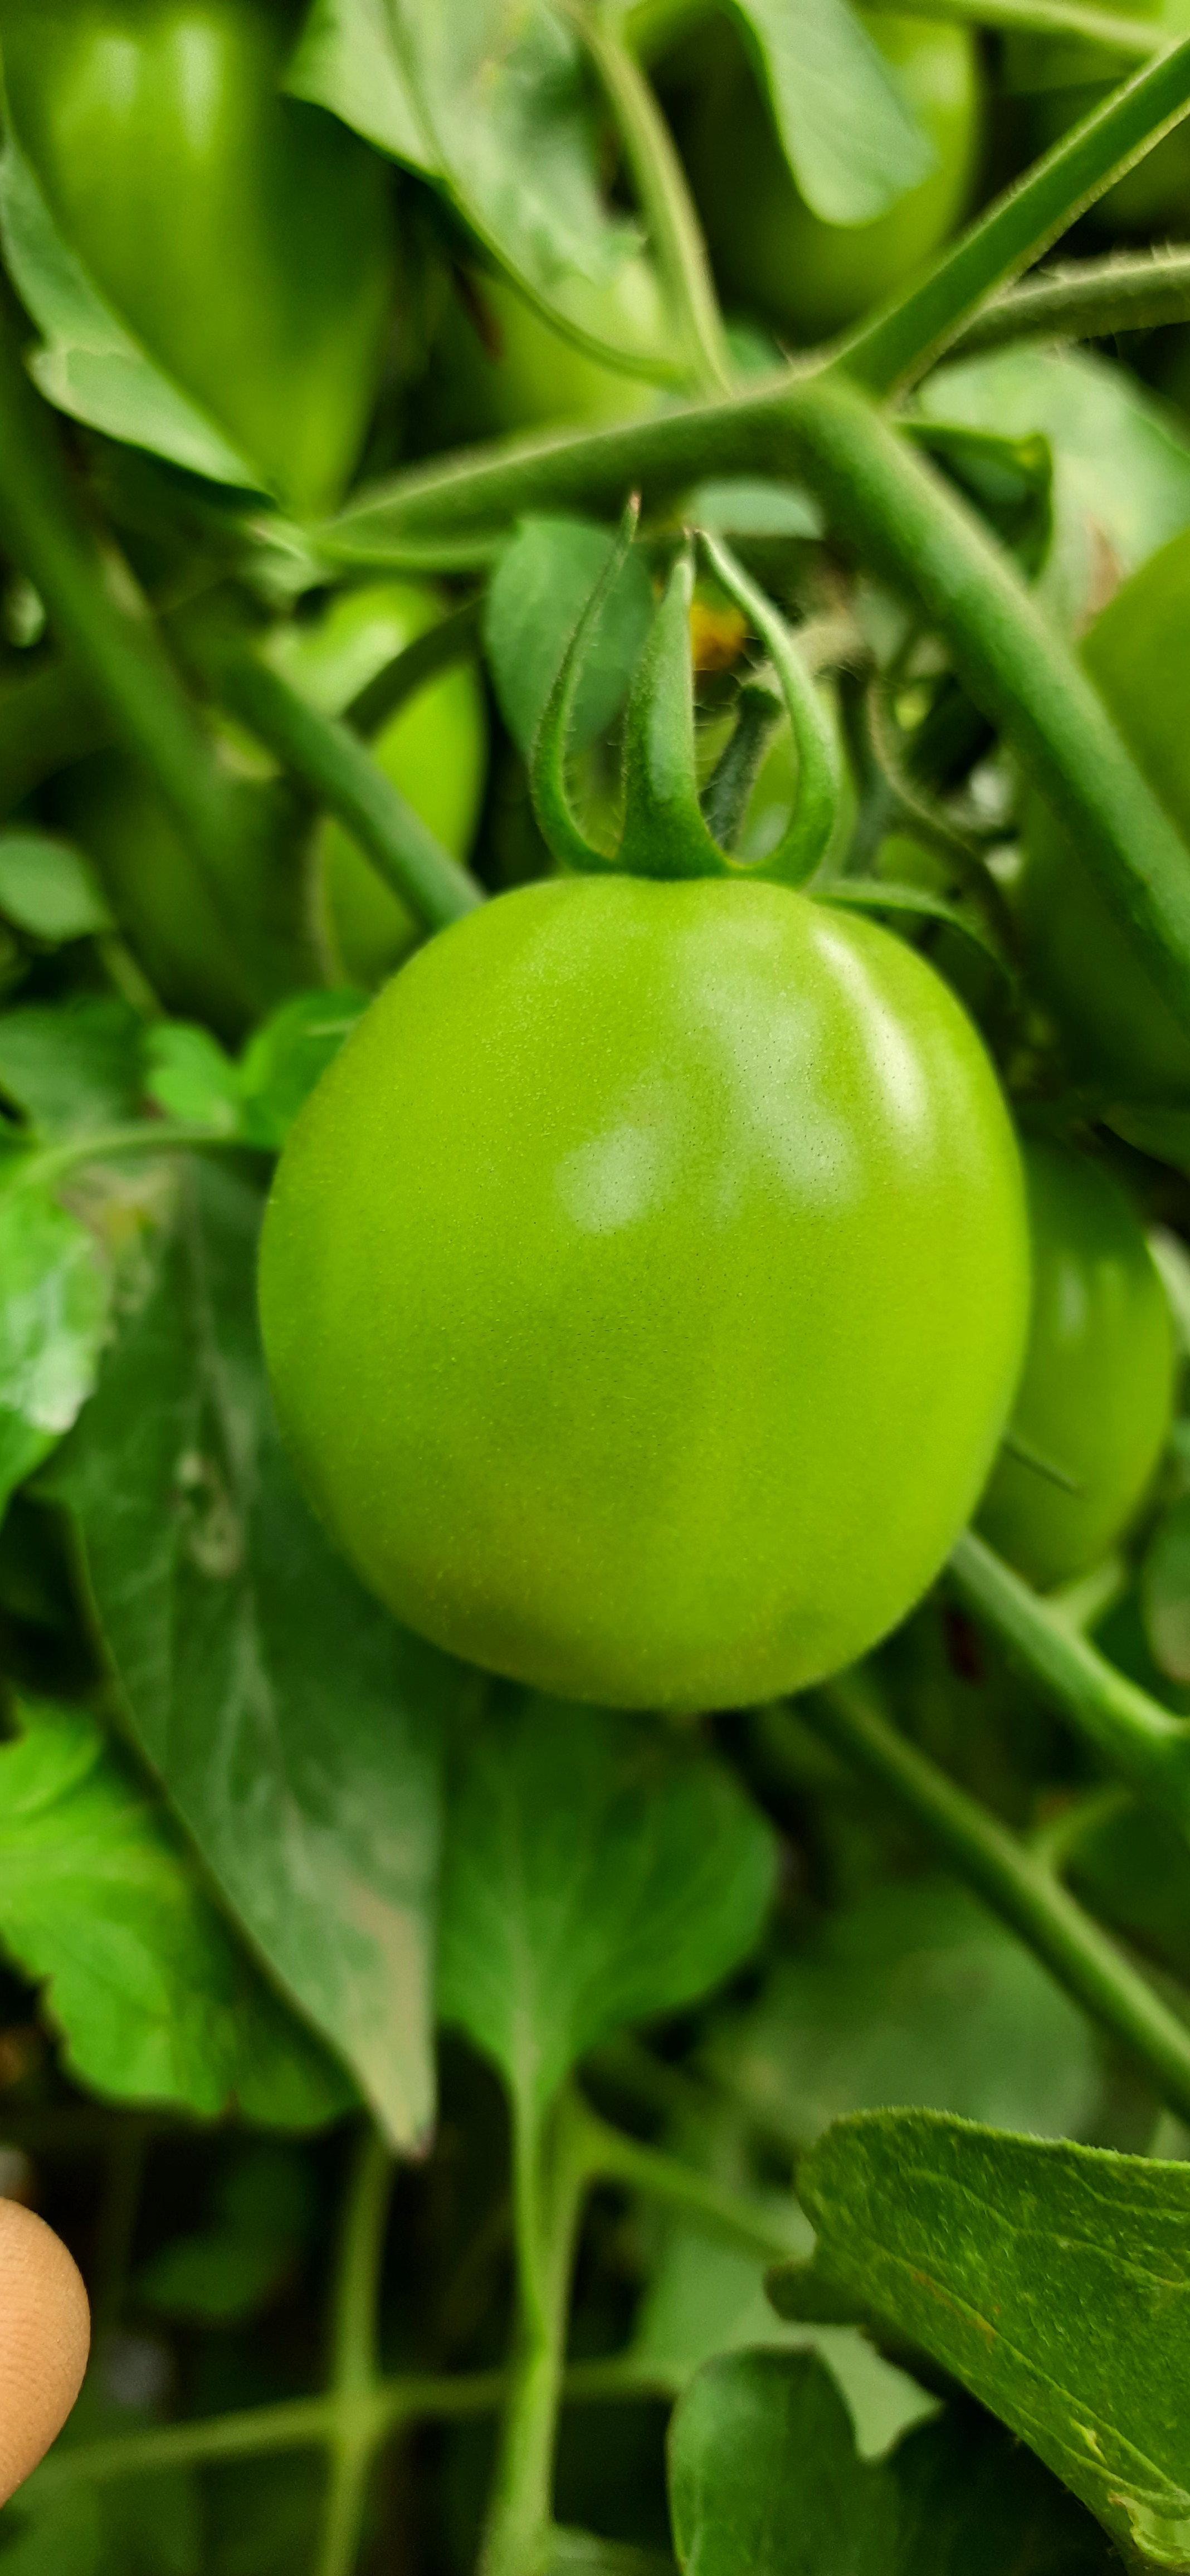raw_tomato: (268, 812, 1157, 1902)
